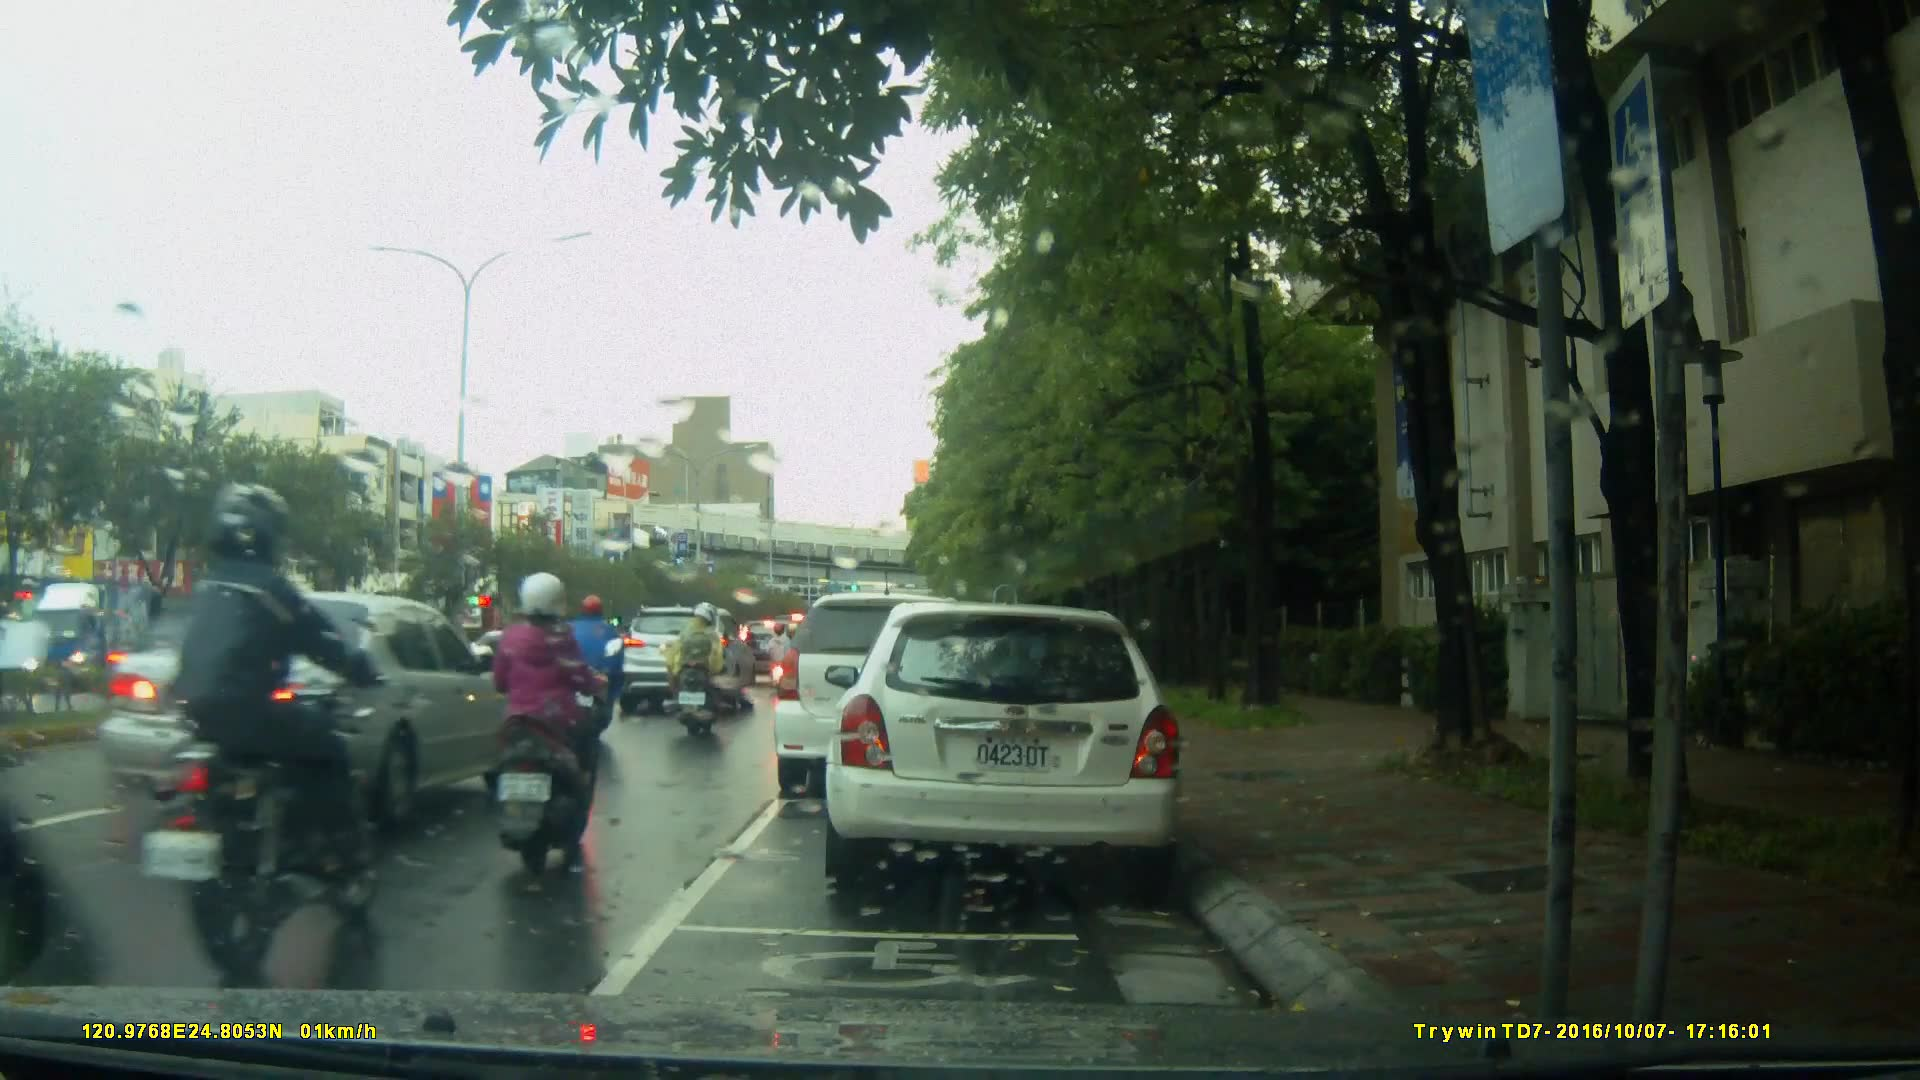rider: (157, 483, 379, 978), (481, 576, 600, 874), (562, 594, 631, 731), (668, 601, 729, 742), (767, 623, 801, 698)
vehicle: (96, 589, 527, 833), (822, 604, 1188, 883), (774, 595, 995, 802), (614, 607, 759, 713)
